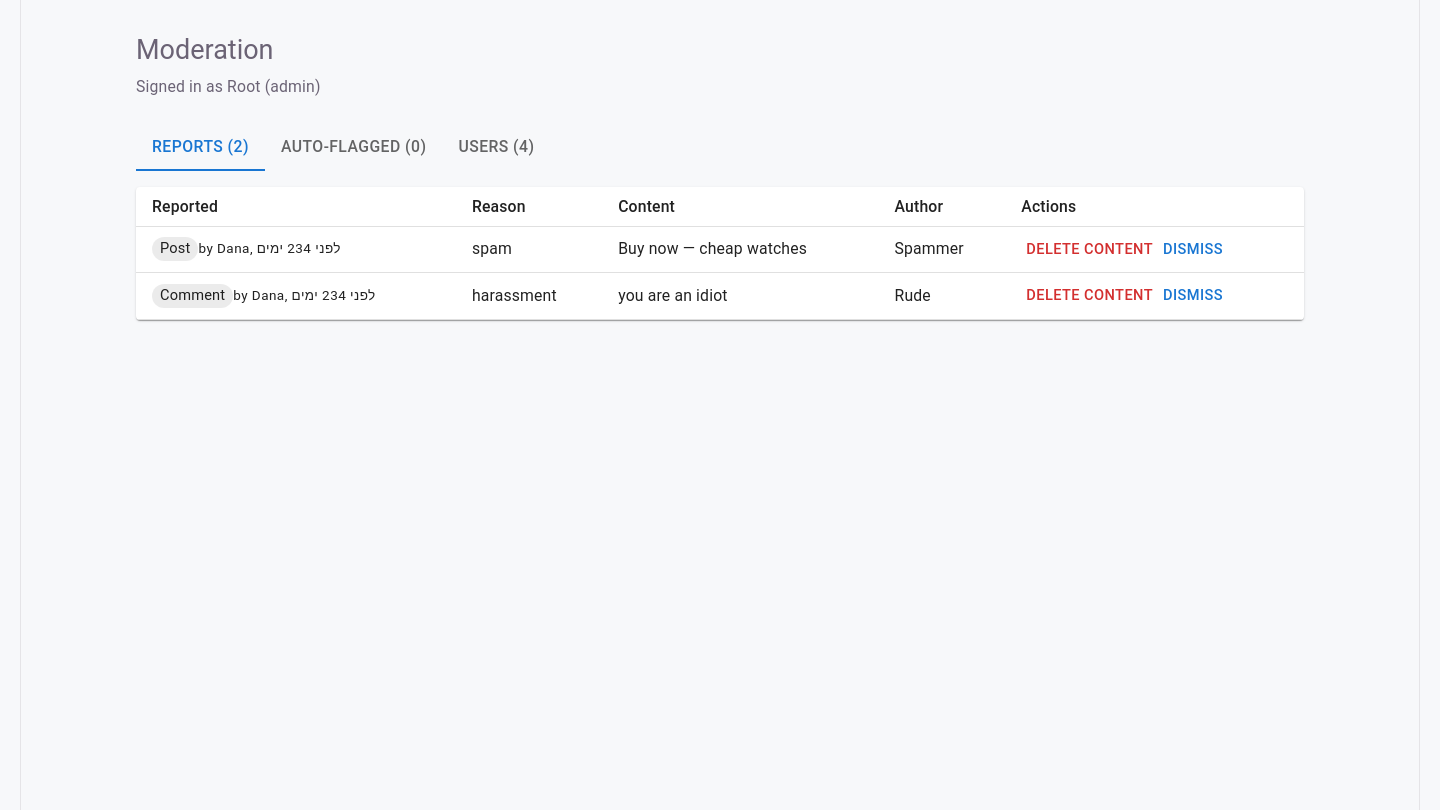
AdminDashboard — the three tabs › says so when nothing is held for review
Click the tab "Auto-flagged (0)": x=354, y=146 [265,122,442,170]
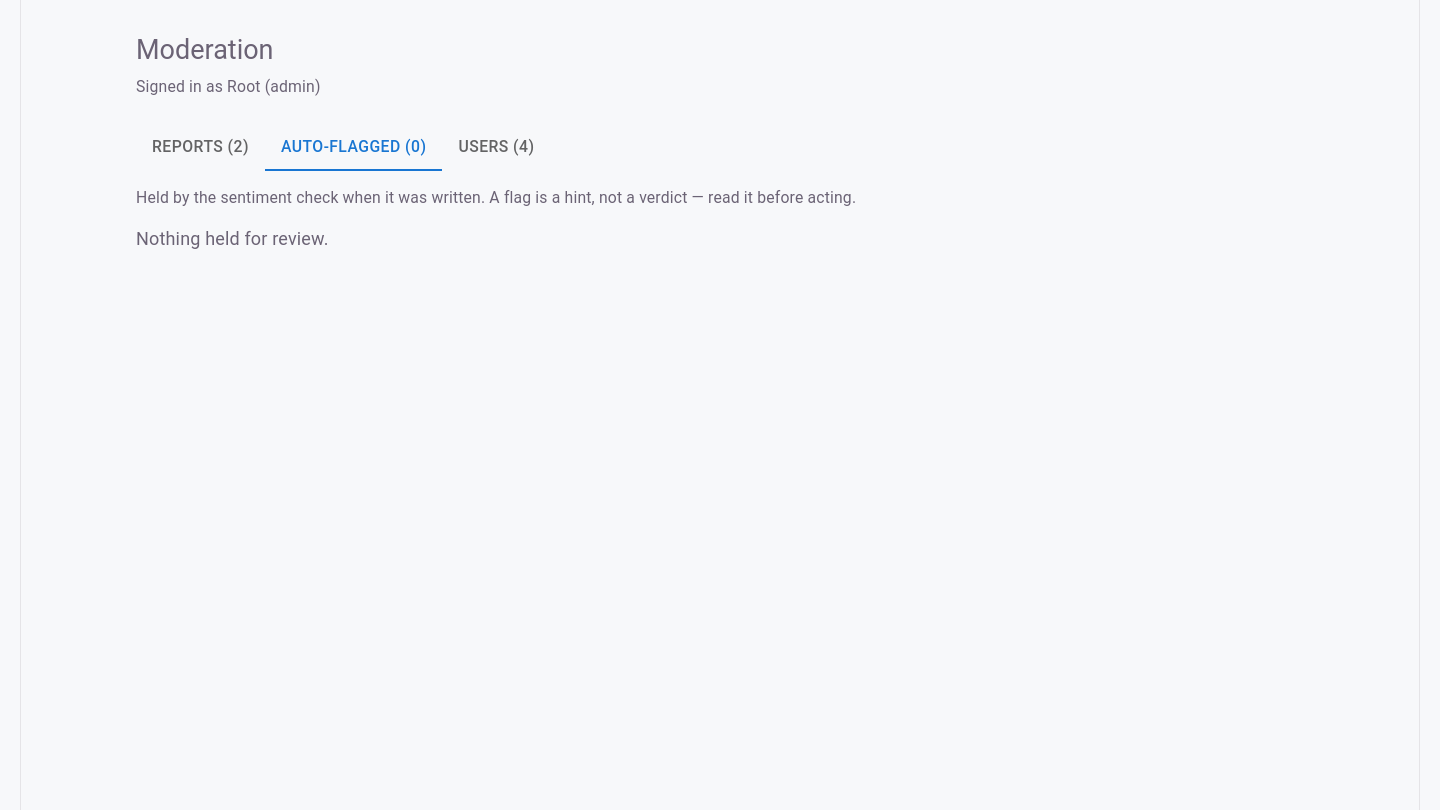
Expected: the text "Nothing held for review." is shown, [136,228,329,249]
